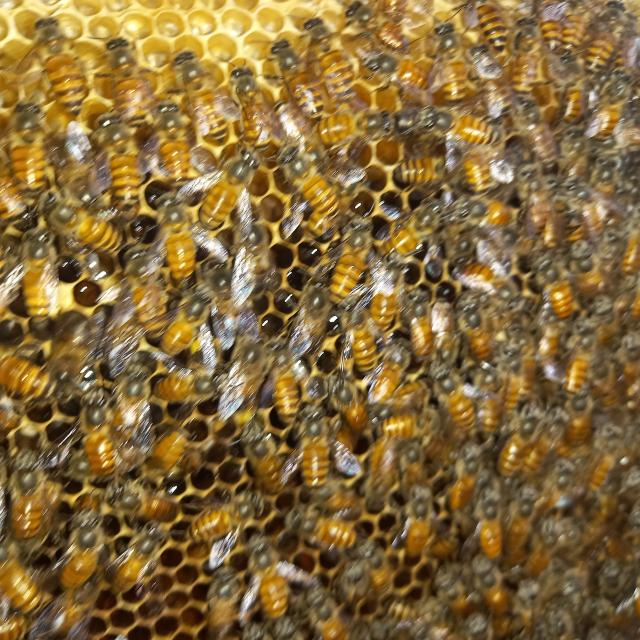honeybee: (173, 52, 237, 150), (34, 9, 94, 111), (0, 552, 76, 632), (276, 142, 348, 222), (269, 35, 330, 121), (197, 150, 260, 232), (227, 59, 281, 153), (95, 114, 148, 206), (306, 11, 358, 103), (8, 453, 62, 534), (107, 523, 163, 599), (324, 218, 374, 302), (184, 493, 263, 546), (110, 32, 156, 122), (56, 510, 106, 590), (404, 108, 510, 145), (116, 362, 154, 463), (20, 232, 64, 318), (9, 100, 48, 195), (52, 207, 125, 256), (303, 109, 393, 148), (452, 261, 525, 306), (106, 487, 180, 531), (0, 355, 70, 401), (367, 336, 411, 409), (238, 421, 283, 492), (160, 293, 210, 356), (161, 198, 199, 280), (156, 101, 194, 181), (84, 384, 115, 481), (376, 213, 441, 259), (582, 0, 624, 70), (358, 52, 431, 92), (298, 405, 334, 486), (257, 547, 296, 621), (142, 427, 195, 480), (341, 306, 381, 376), (305, 581, 350, 640), (533, 255, 572, 323), (225, 342, 261, 414), (436, 21, 467, 104), (582, 433, 625, 492), (436, 374, 478, 434), (561, 334, 599, 400), (520, 111, 564, 166), (472, 47, 508, 114), (147, 373, 220, 406), (498, 417, 538, 477), (474, 489, 508, 558), (591, 77, 629, 138), (350, 0, 403, 43), (556, 67, 592, 130), (466, 301, 502, 364), (504, 493, 540, 556), (270, 349, 299, 426), (514, 17, 542, 96), (407, 293, 439, 362), (208, 568, 240, 632), (379, 412, 443, 444), (382, 376, 434, 415), (475, 369, 505, 436), (393, 154, 453, 186), (402, 496, 432, 560), (468, 0, 508, 47), (529, 0, 565, 50), (466, 196, 516, 232), (433, 301, 458, 371), (610, 20, 640, 78), (372, 437, 400, 495), (464, 145, 496, 194), (567, 388, 592, 448), (578, 189, 608, 239), (561, 0, 585, 60), (525, 180, 550, 232), (402, 442, 430, 488), (572, 243, 600, 288), (618, 223, 640, 280), (595, 290, 622, 335), (619, 333, 640, 377), (0, 612, 30, 640)
